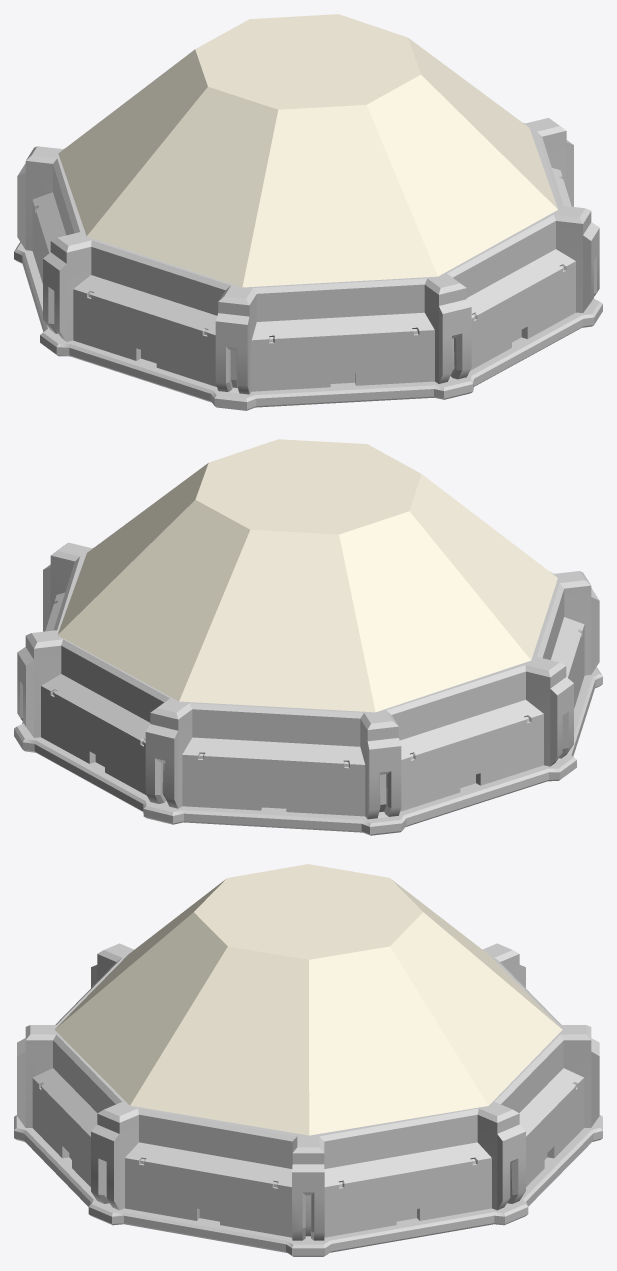
The model's file is S_EnceinteProtectionTour.fbx.
3 renders of one model, top to bottom at view 1: azimuth 30°, elevation 25°; view 2: azimuth 150°, elevation 25°; view 3: azimuth 270°, elevation 25°, orthographic.
Visible parts, largest first — view 1: EnceinteProtectionTour; view 2: EnceinteProtectionTour; view 3: EnceinteProtectionTour.
Part boxes in pixels (x1,y1,x2,y2): EnceinteProtectionTour: (14, 14, 602, 410); EnceinteProtectionTour: (14, 439, 602, 835); EnceinteProtectionTour: (14, 864, 602, 1256).
Size of what is drawn, in the model's own units: 7692 by 3189 by 7692.
